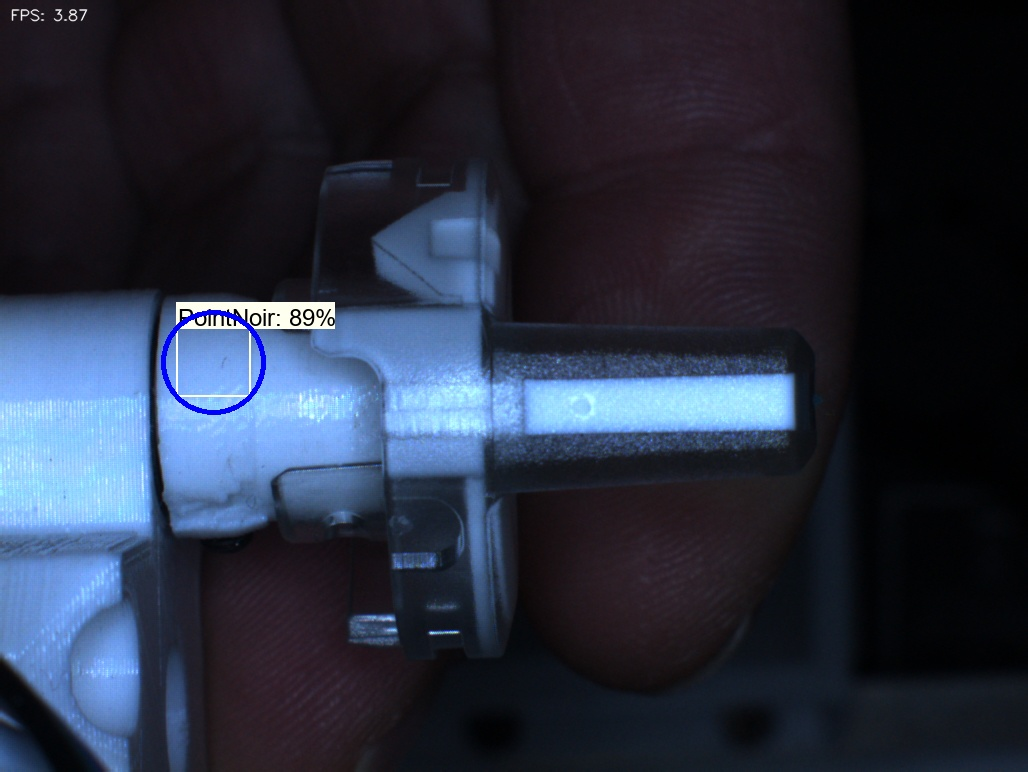DentOk: (345, 202, 418, 295)
